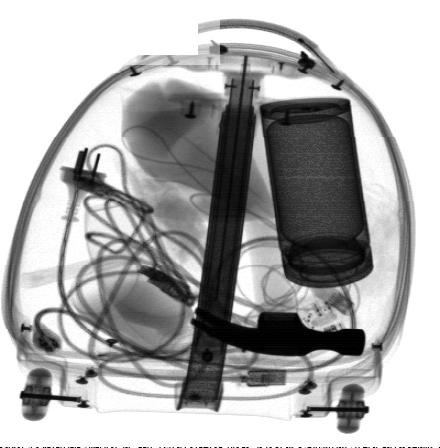Hammer: (189, 66, 366, 357)
